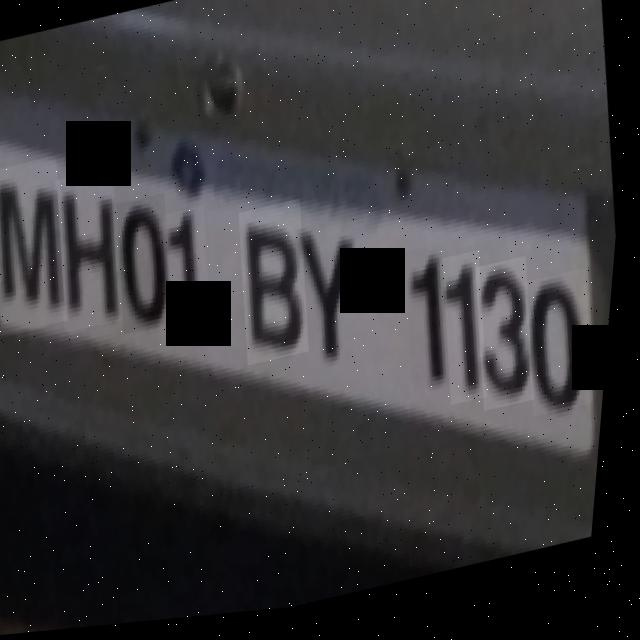0: (522, 279, 611, 430), (112, 195, 187, 338)
1: (401, 251, 473, 402), (439, 259, 504, 416), (158, 209, 226, 349)
3: (472, 265, 552, 423)
B: (233, 204, 325, 373)
H: (49, 168, 138, 337)
M: (0, 155, 84, 339)
Y: (290, 211, 384, 381)
